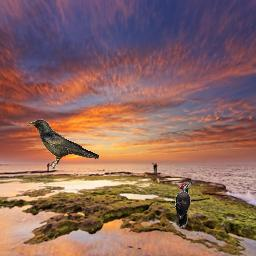Crow: (26, 119, 100, 169)
Woodpecker: (171, 180, 196, 228)
